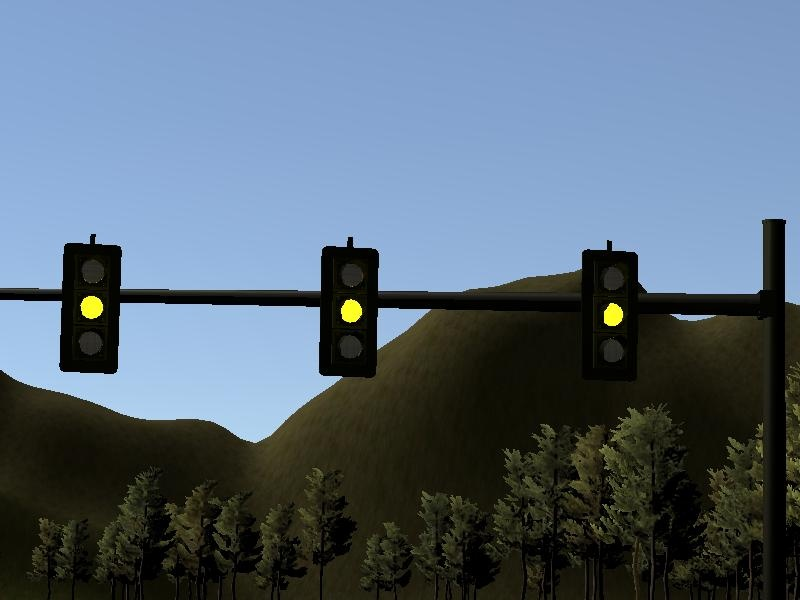yellow: (574, 229, 643, 383), (55, 226, 123, 381), (315, 227, 382, 381)
